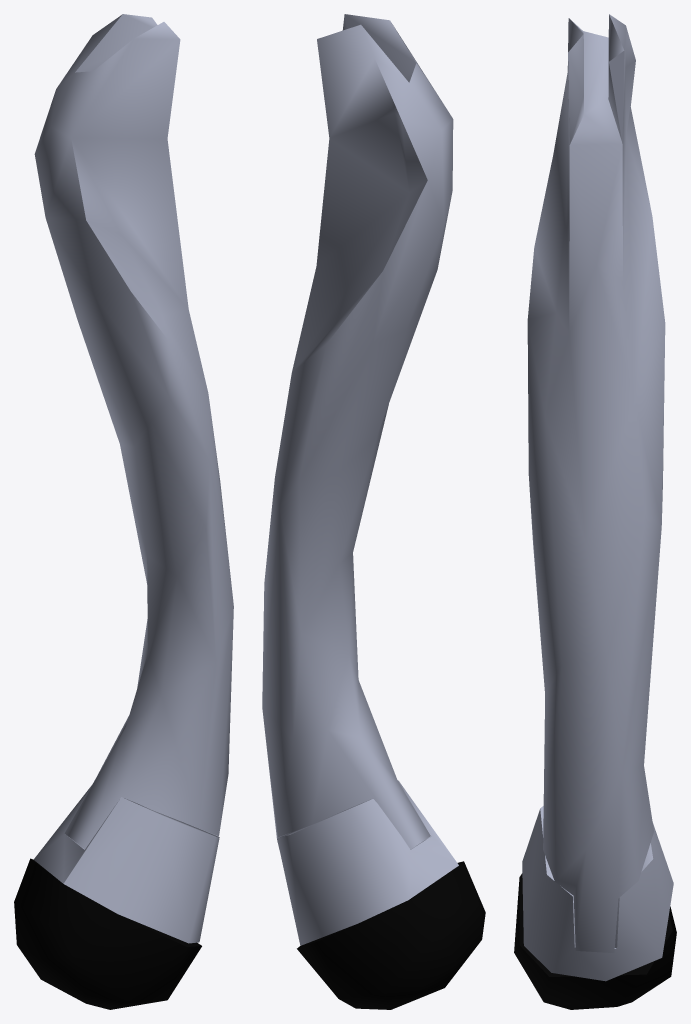
The model's file is calf_mirror_dae.dae.
3 views of the same model, side by side, from view 1: azimuth 30°, elevation 25°; view 2: azimuth 150°, elevation 25°; view 3: azimuth 270°, elevation 25° (orthographic).
Parts seen in each view (by area): view 1: calf_mirror_dae; view 2: calf_mirror_dae; view 3: calf_mirror_dae.
Part boxes in pixels (x1,y1,x2,y2): calf_mirror_dae: (14, 14, 233, 1009); calf_mirror_dae: (262, 14, 485, 1009); calf_mirror_dae: (514, 14, 676, 1009).
Size of the model in its own units: 0.0568 by 0.0397 by 0.2664.
